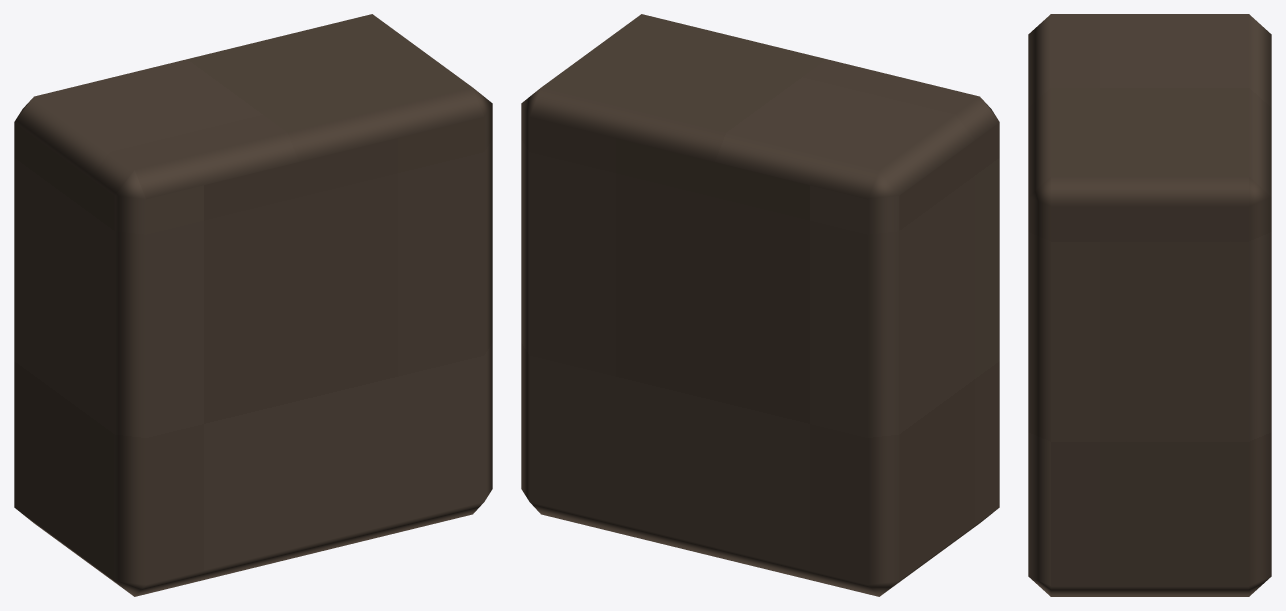
File: Iron-chain-link.glb
The picture shows the model from 3 angles, left to right: view 1: azimuth 30°, elevation 25°; view 2: azimuth 150°, elevation 25°; view 3: azimuth 270°, elevation 25°; orthographic projection.
Parts seen in each view (by area): view 1: Iron-chain-link; view 2: Iron-chain-link; view 3: Iron-chain-link.
Boxes of the visible parts, x1,y1,x2,y2 form: Iron-chain-link: (14,14,492,596); Iron-chain-link: (521,14,999,596); Iron-chain-link: (1028,14,1271,596).
Size of the model in its own units: 0.076 by 0.082 by 0.043.
1 material, 1 textured.
